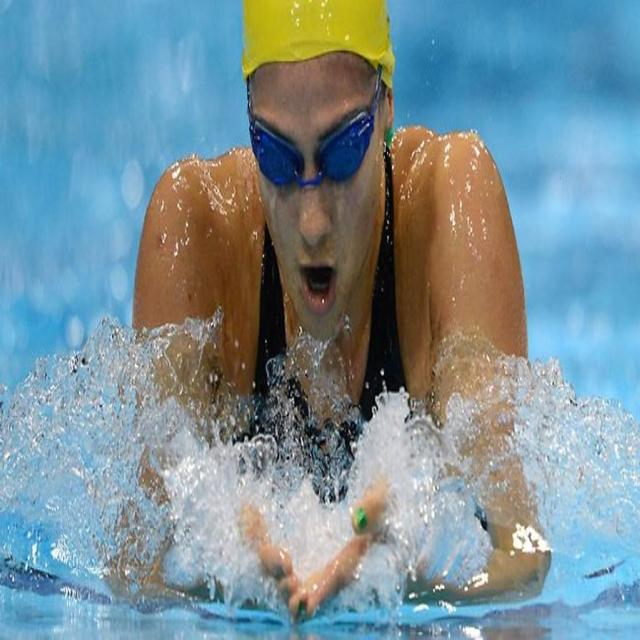Face: (237, 60, 399, 347)
